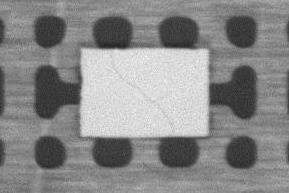DIE_CRACK: (110, 49, 174, 133)
